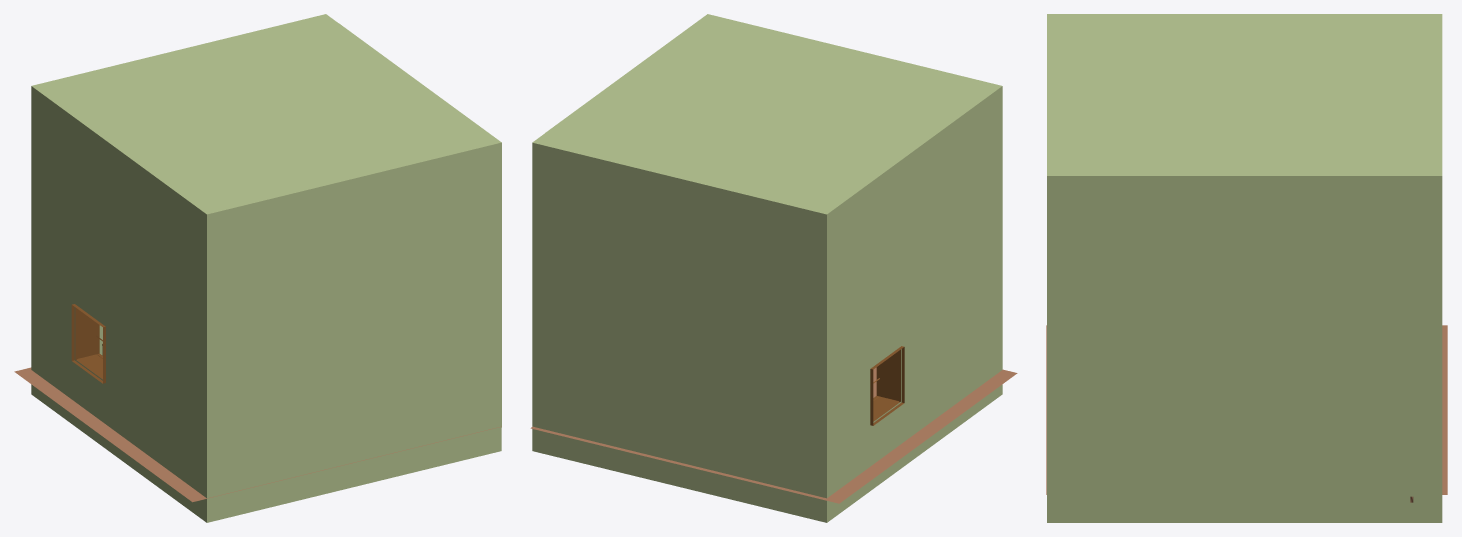
Rendered from room_v12.glb.
The picture shows the model from 3 angles, left to right: view 1: azimuth 30°, elevation 25°; view 2: azimuth 150°, elevation 25°; view 3: azimuth 270°, elevation 25°; orthographic projection. The views are drawn at different scales.
Parts seen in each view (by area): view 1: walls, Plane.009, window_frame; view 2: walls, Plane.009, window_frame; view 3: walls, Plane.009.
Part boxes in pixels (<box>): walls: <box>31,14,501,522</box>; Plane.009: <box>14,367,501,502</box>; window_frame: <box>71,304,105,383</box>; walls: <box>532,14,1002,522</box>; Plane.009: <box>530,367,1017,503</box>; window_frame: <box>870,346,904,425</box>; walls: <box>1047,14,1442,522</box>; Plane.009: <box>1046,325,1447,494</box>.
Bounding box in the file's own units: 8.37 × 7.97 × 8.35.
